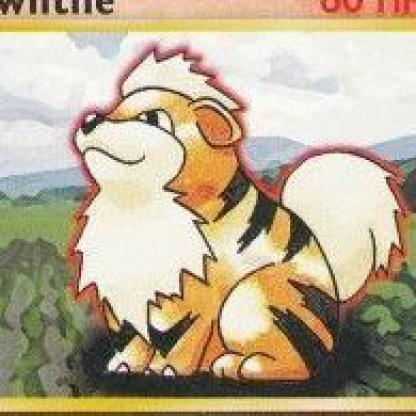Growlithe: (66, 51, 413, 391)
